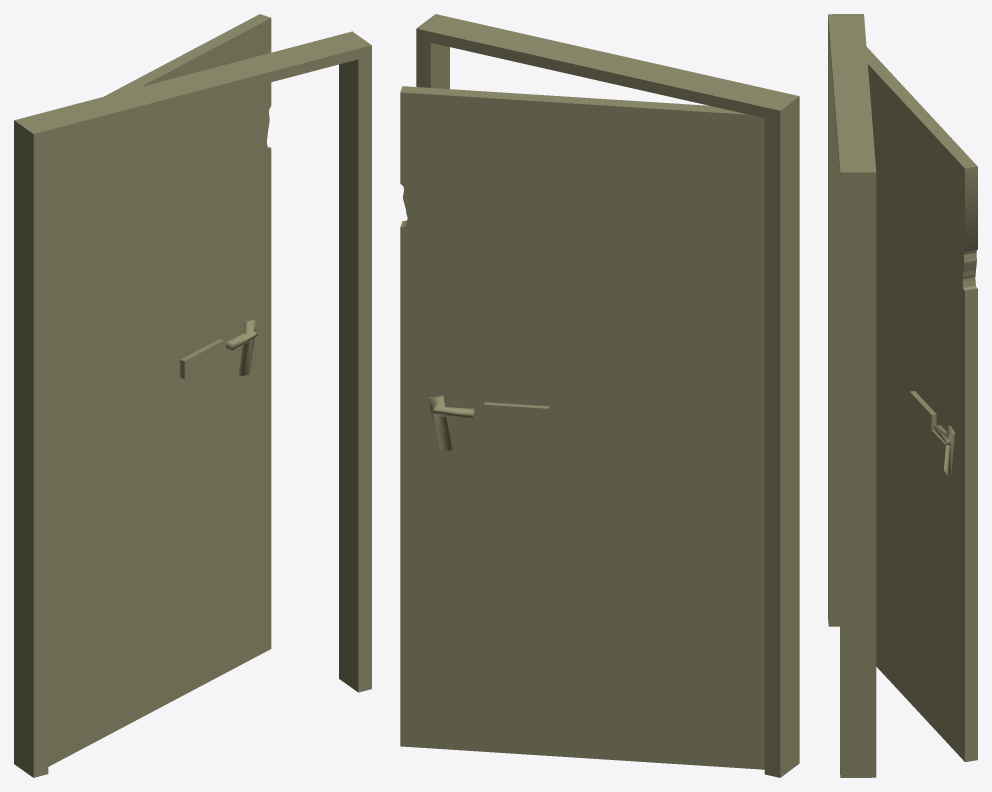
The model's file is Door.fbx.
The picture shows the model from 3 angles, left to right: view 1: azimuth 30°, elevation 25°; view 2: azimuth 150°, elevation 25°; view 3: azimuth 270°, elevation 25°; orthographic projection. The views are drawn at different scales.
Parts seen in each view (by area): view 1: Group2, Group3; view 2: Group2, Group3; view 3: Group2, Group3.
Boxes of the visible parts, bbox=[...] form: Group2: bbox=[48, 14, 271, 766]; Group3: bbox=[14, 31, 371, 777]; Group2: bbox=[400, 86, 764, 769]; Group3: bbox=[416, 14, 799, 777]; Group2: bbox=[866, 47, 977, 762]; Group3: bbox=[828, 14, 876, 777].
Size of the model in its own units: 81.9 by 146 by 32.71.
